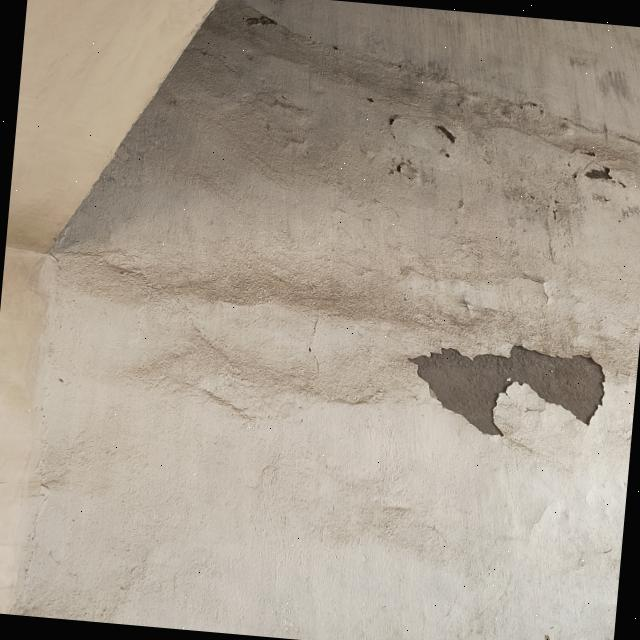Paint Peeling: (411, 346, 604, 434), (435, 124, 455, 143), (584, 167, 612, 179)
